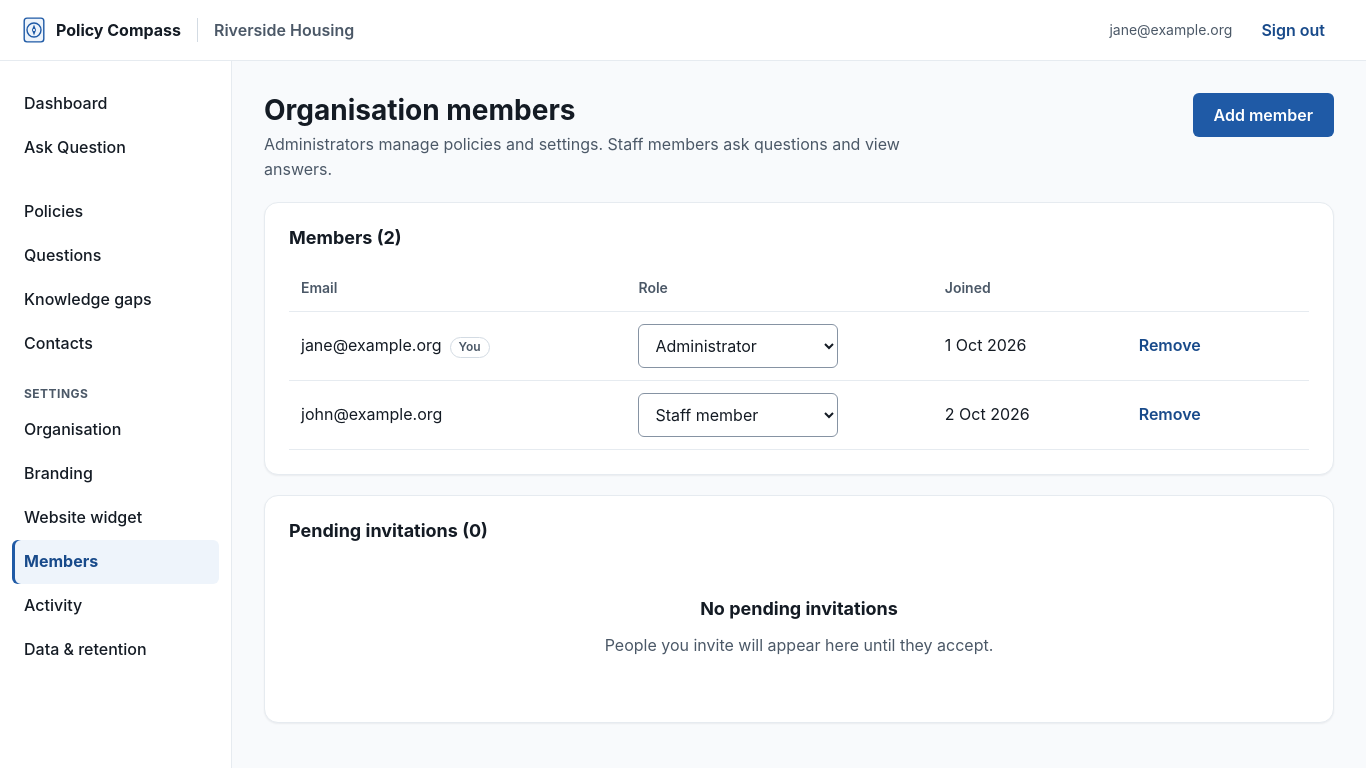
Members page › asks for confirmation before removing a member
Click the button with aria-label "Remove john@example.org" at [1170, 415], box [1118, 393, 1222, 437]
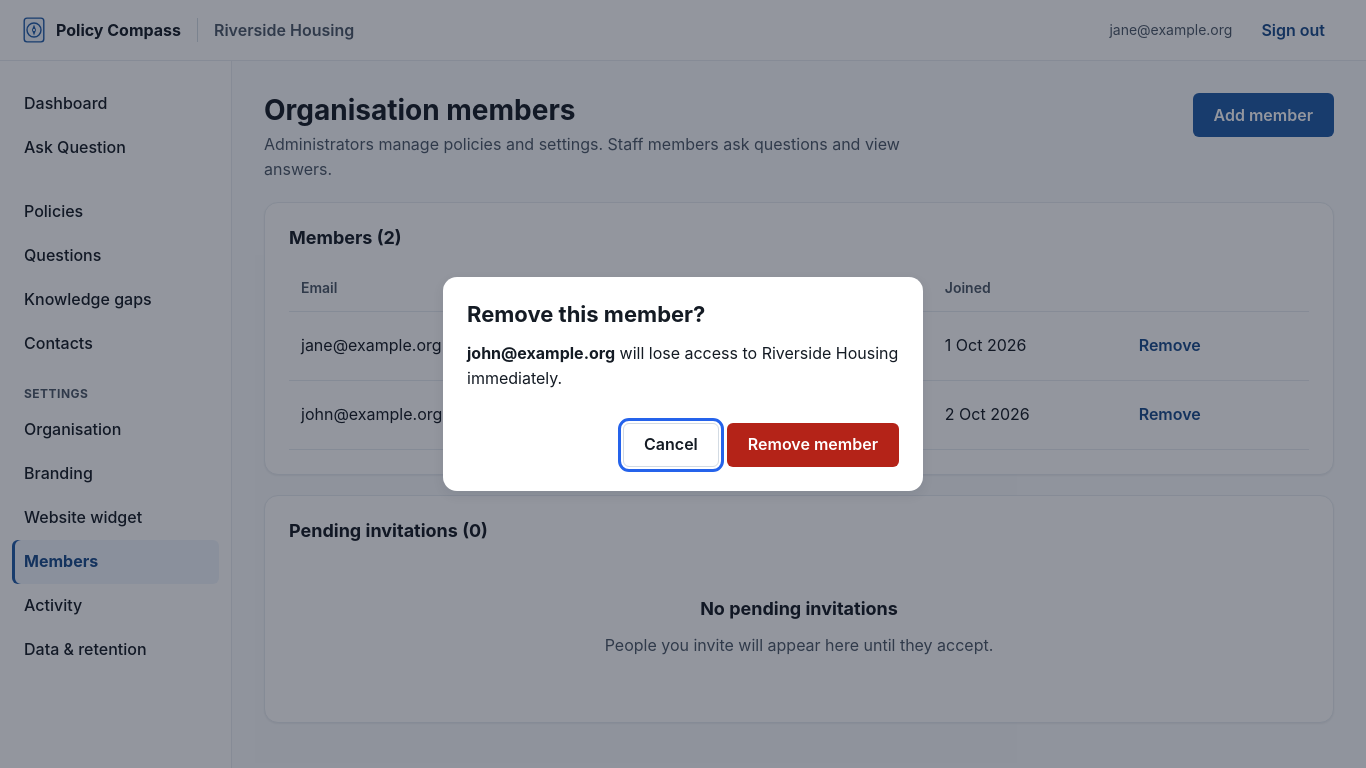
Click the button "Remove member" at [813, 444], box [727, 422, 899, 466]
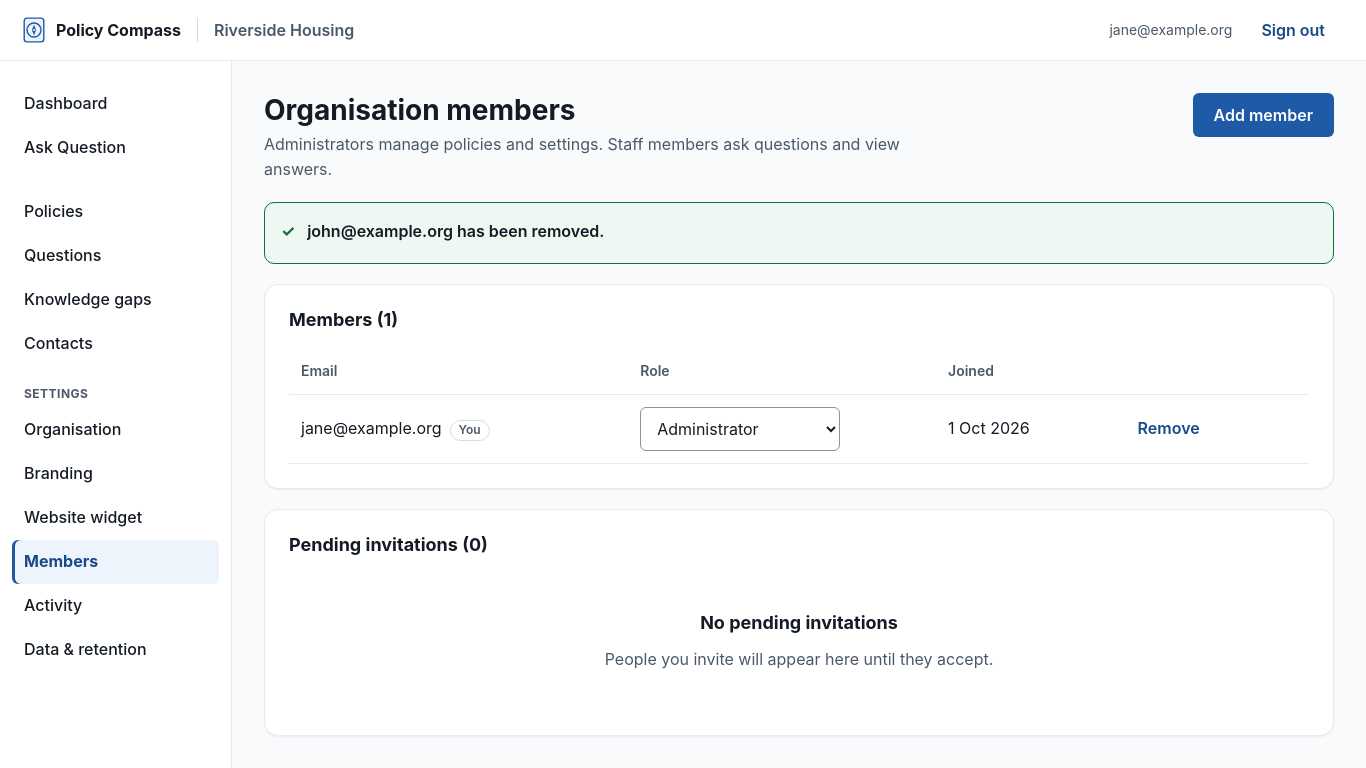
Expected: the text "john@example.org has been removed." is shown, [307, 219, 604, 243]
Expected: the element "Members (1)" is shown, [264, 284, 1334, 489]
